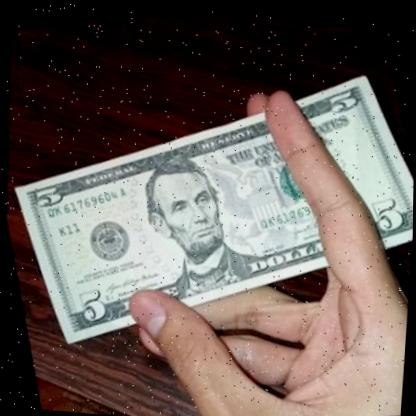dollar_front: (0, 32, 416, 368)
